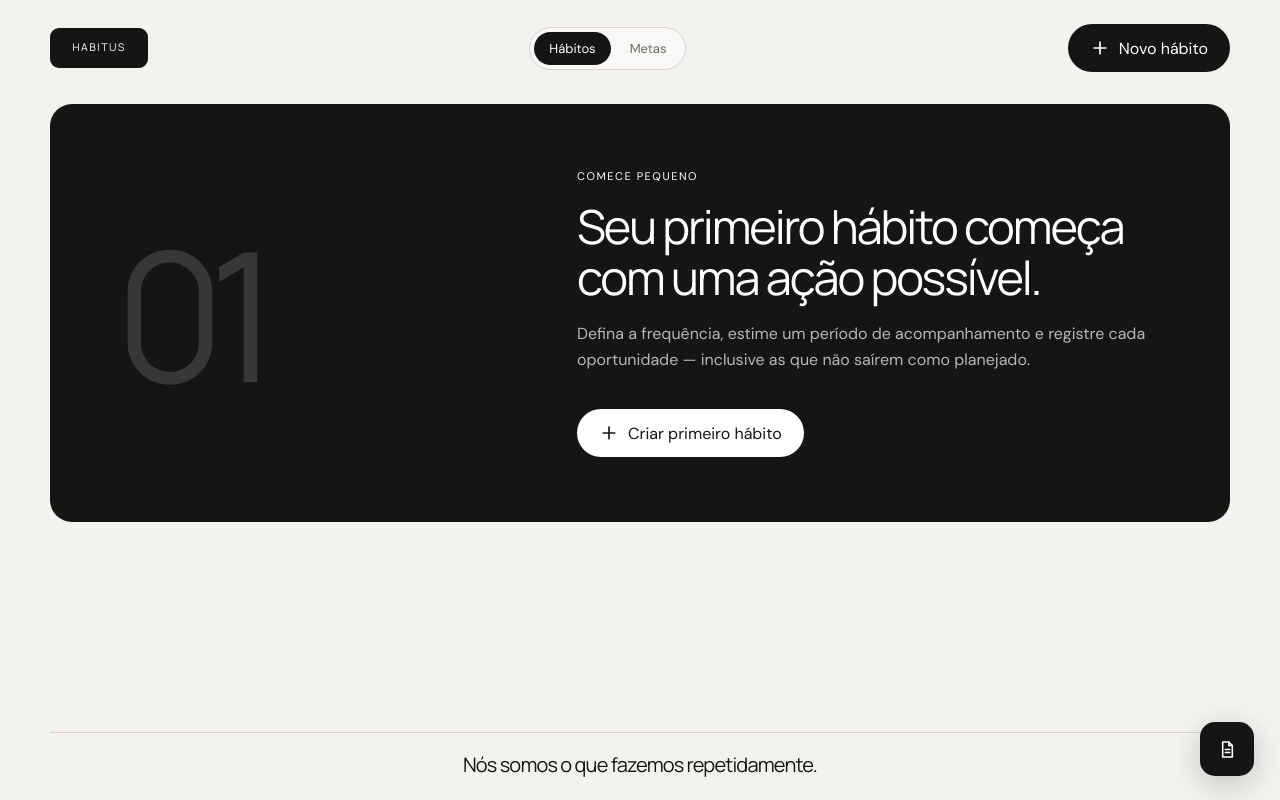
Test: painel › exige detalhe e pelo menos um dia sem pedir frequência separada
Click the button "Criar primeiro hábito" at (690, 433), box [577,409,804,457]
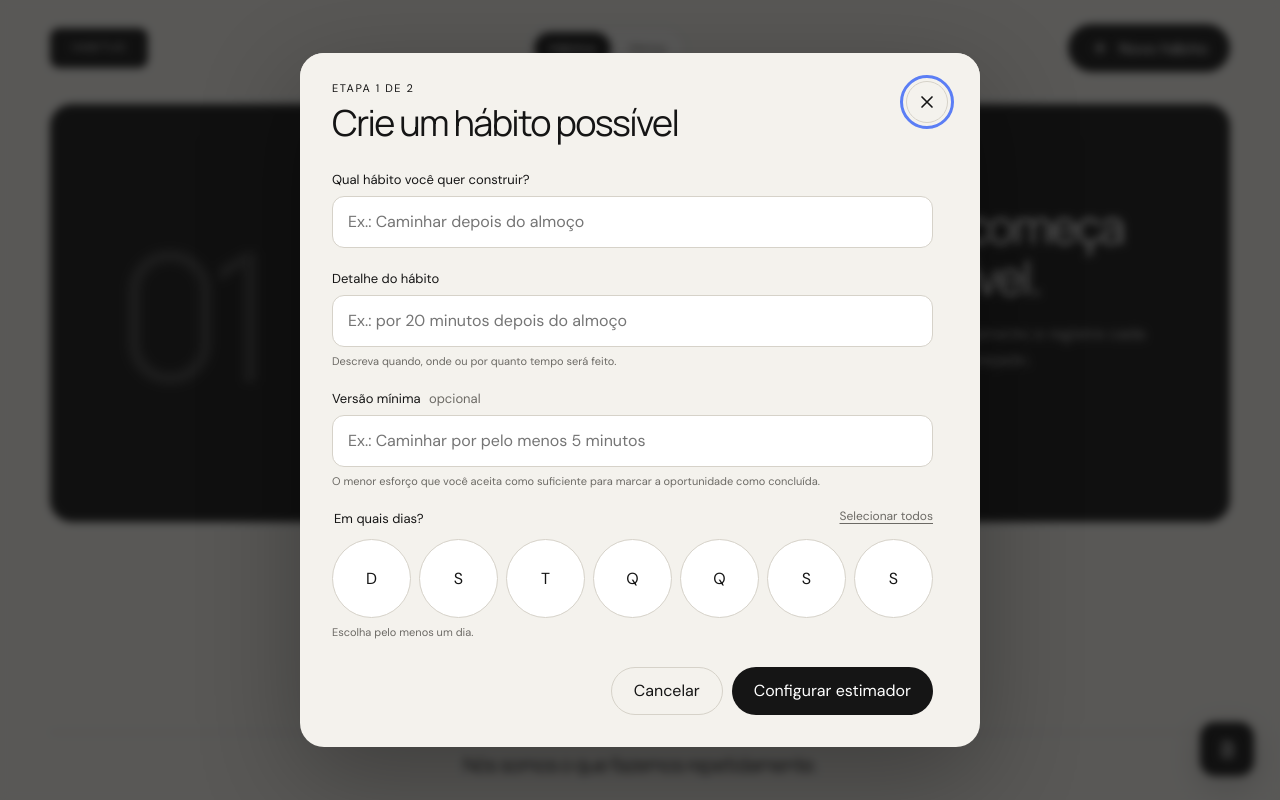
Type "Caminhar" into the field labelled "Qual hábito você quer construir?" at (632, 222), box [332,196,933,248]
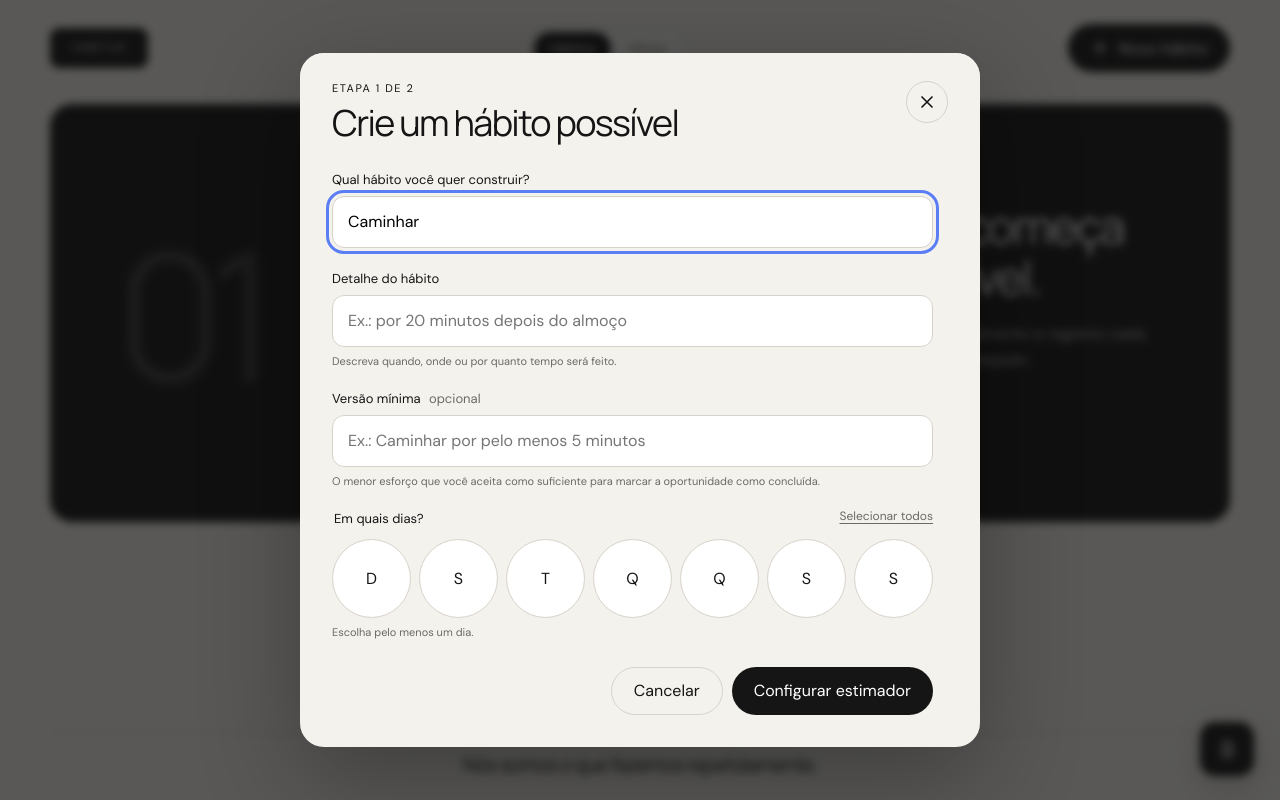
Result: the text "menor esforço que você aceita como suficiente" is shown at [332,474,820,488]
Click the button "Configurar estimador" at (832, 691), box [732,667,933,715]
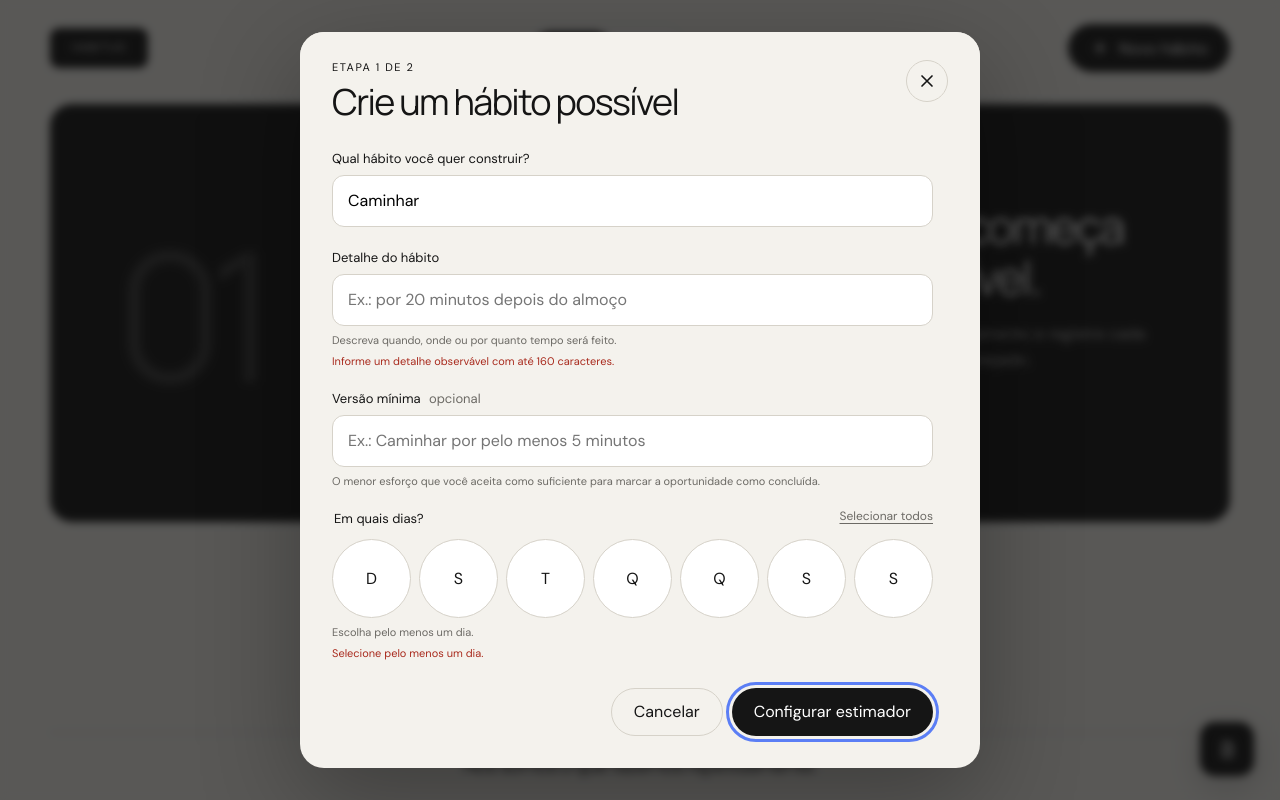
Result: the text "Informe um detalhe observável com até 160 caracteres." is shown at [332,354,614,368]
Result: the text "Selecione pelo menos um dia." is shown at [332,646,483,660]
Click the button "Selecionar todos" at (886, 516), box [840,504,933,528]
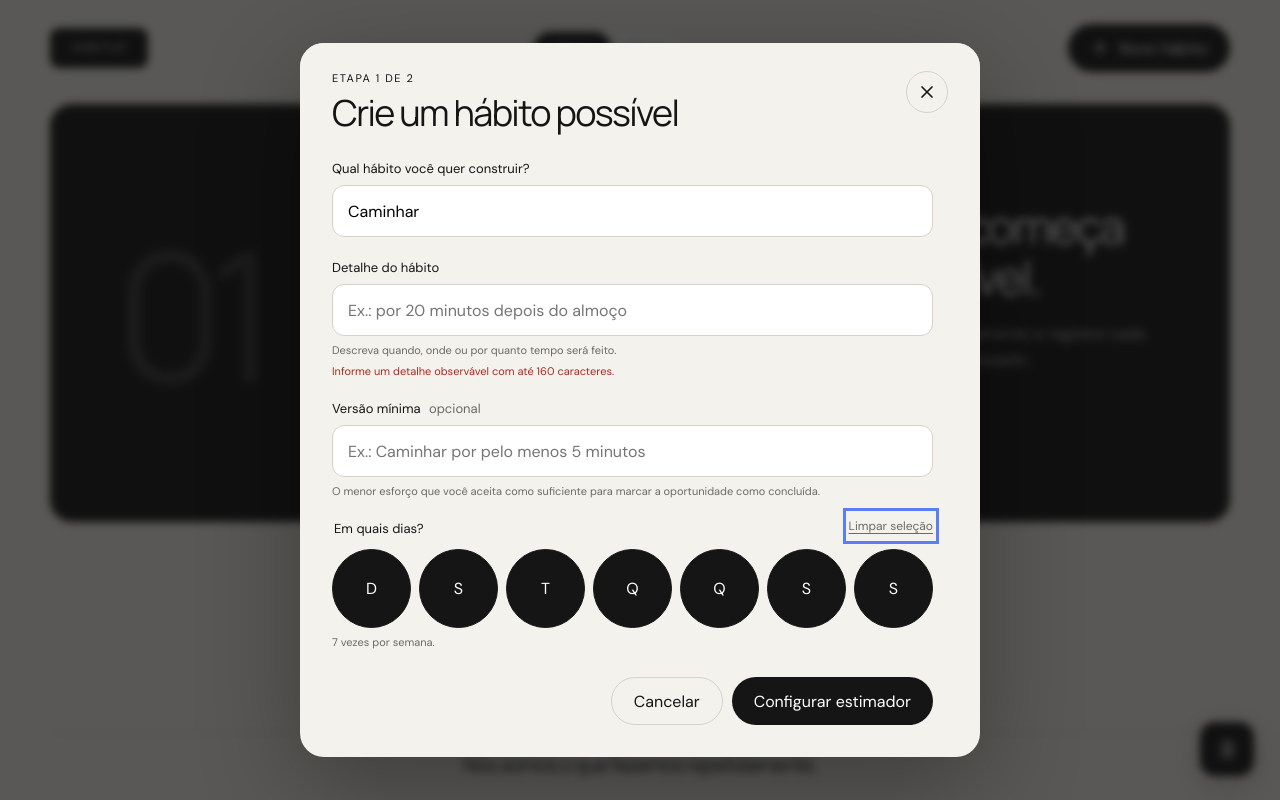
Result: the text "7 vezes por semana." is shown at [332,635,435,649]
Click the button "Limpar seleção" at (891, 526), box [849,514,933,538]
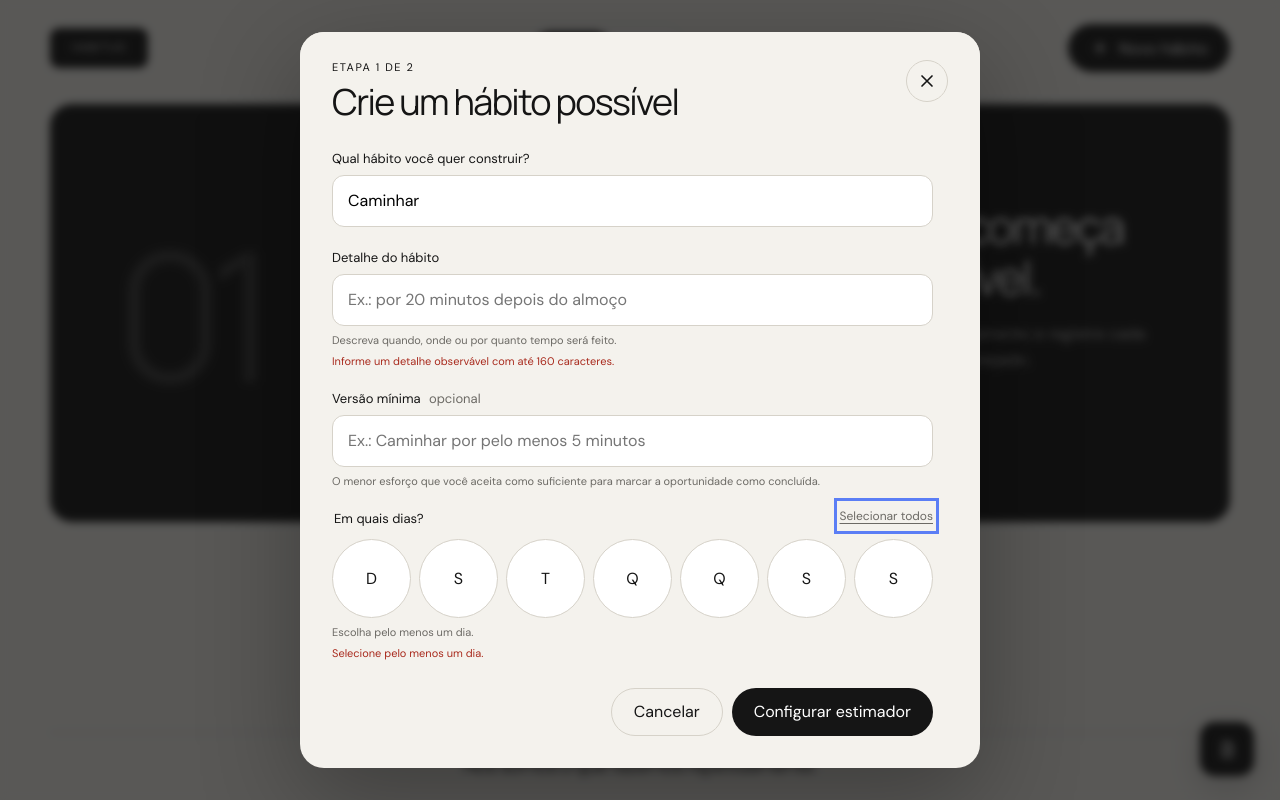
Result: the text "Escolha pelo menos um dia." is shown at [332,625,473,639]
